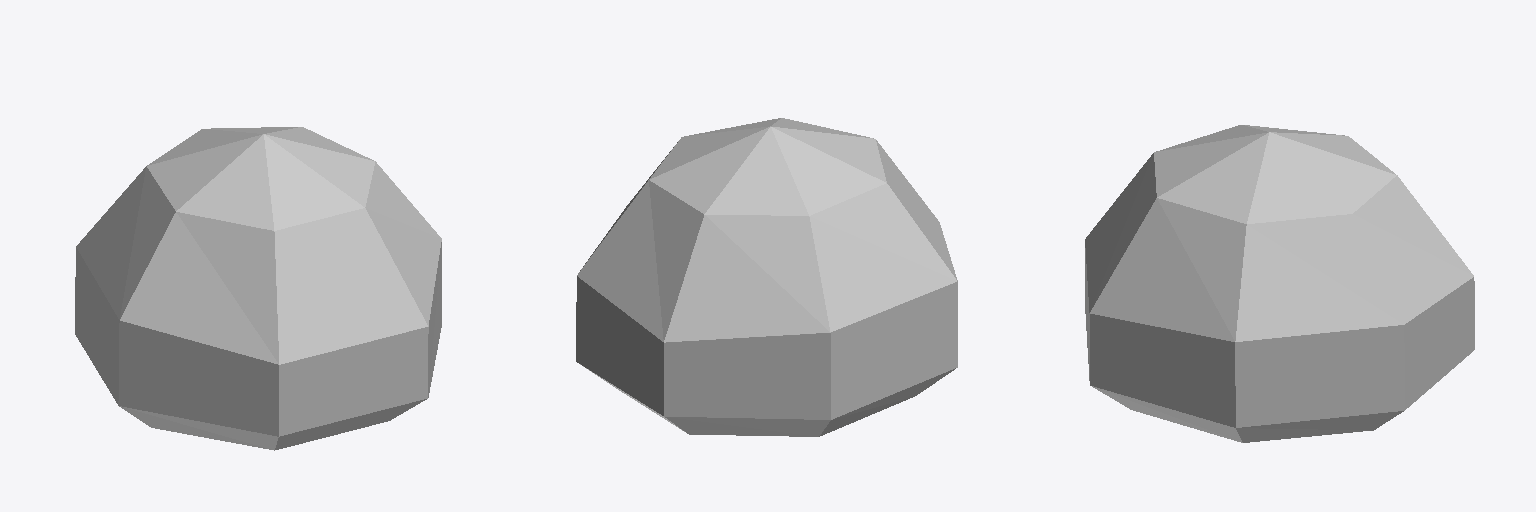
The model's file is bush_C.obj.
The picture shows the model from 3 angles: view 1: azimuth 30°, elevation 25°; view 2: azimuth 150°, elevation 25°; view 3: azimuth 270°, elevation 25°; orthographic projection.
Visible parts, largest first — view 1: bush_C_Cube.14217; view 2: bush_C_Cube.14217; view 3: bush_C_Cube.14217.
Part boxes in pixels (x1,y1,x2,y2): bush_C_Cube.14217: (75, 127, 441, 450); bush_C_Cube.14217: (576, 118, 957, 436); bush_C_Cube.14217: (1085, 125, 1474, 442).
Size of the model in its own units: 0.3805 by 0.2774 by 0.392.